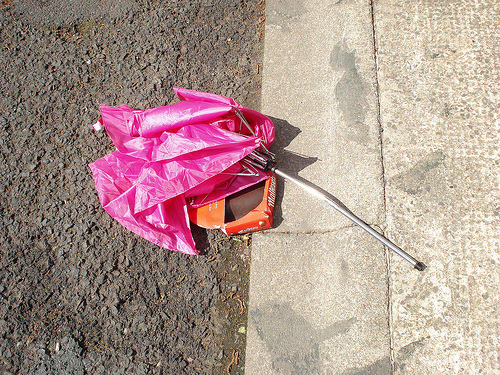litter: (90, 89, 423, 272)
